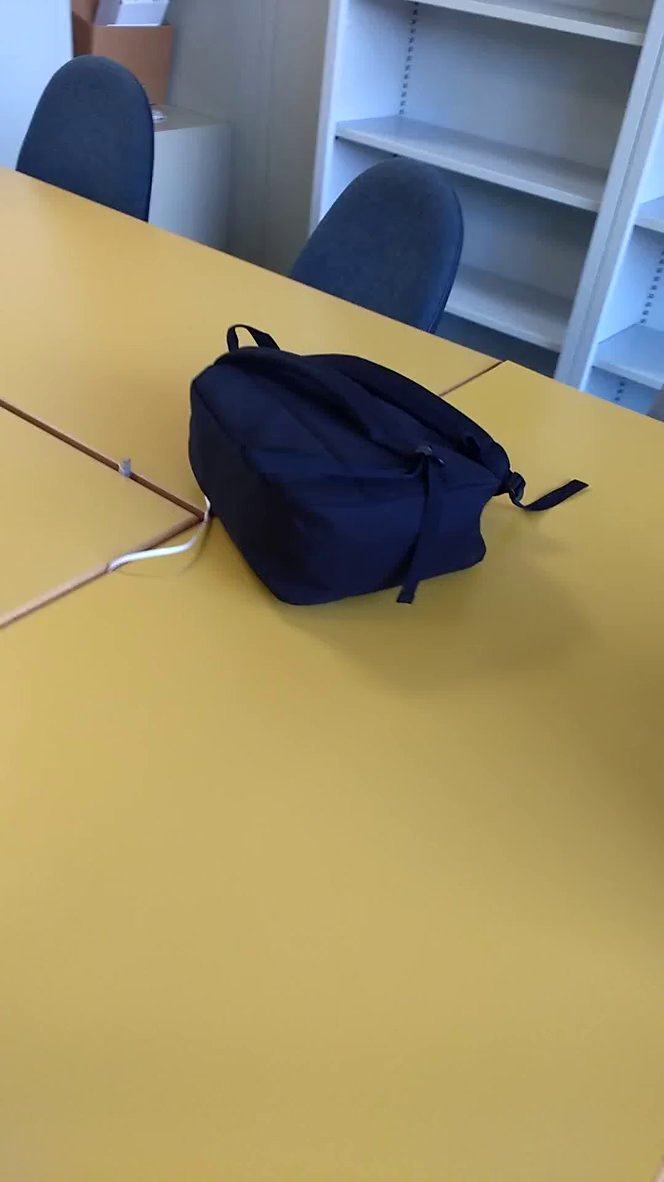bag: (169, 314, 610, 618)
chair: (269, 148, 487, 364), (8, 45, 169, 234)
